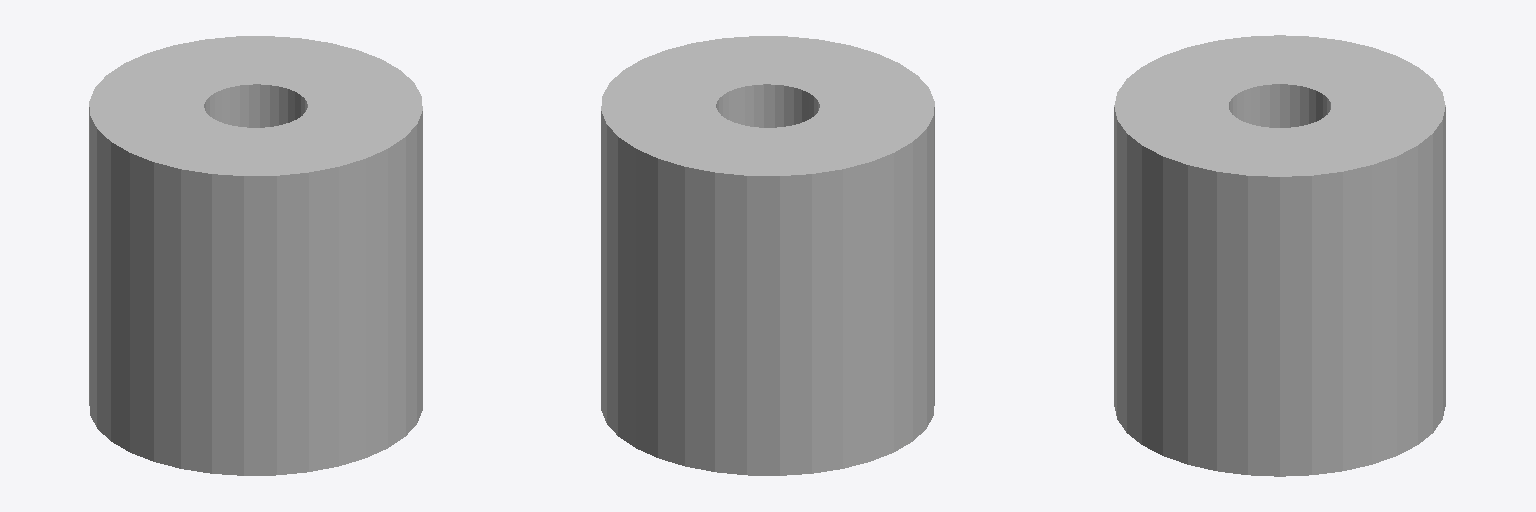
Rendered from _oliet.obj.
The picture shows the model from 3 angles: view 1: azimuth 30°, elevation 25°; view 2: azimuth 150°, elevation 25°; view 3: azimuth 270°, elevation 25°; orthographic projection.
Parts seen in each view (by area): view 1: Cylinder; view 2: Cylinder; view 3: Cylinder.
Part boxes in pixels (x1,y1,x2,y2): Cylinder: (89, 36, 422, 475); Cylinder: (601, 36, 934, 475); Cylinder: (1114, 35, 1445, 476).
Size of the model in its own units: 1 by 0.9866 by 0.9891.